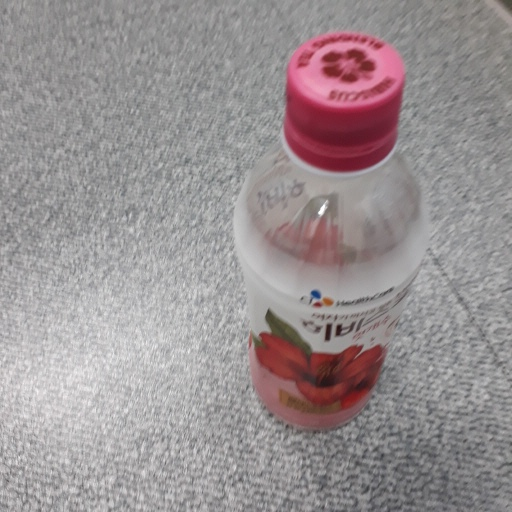Plastic_0: (224, 32, 429, 433)
